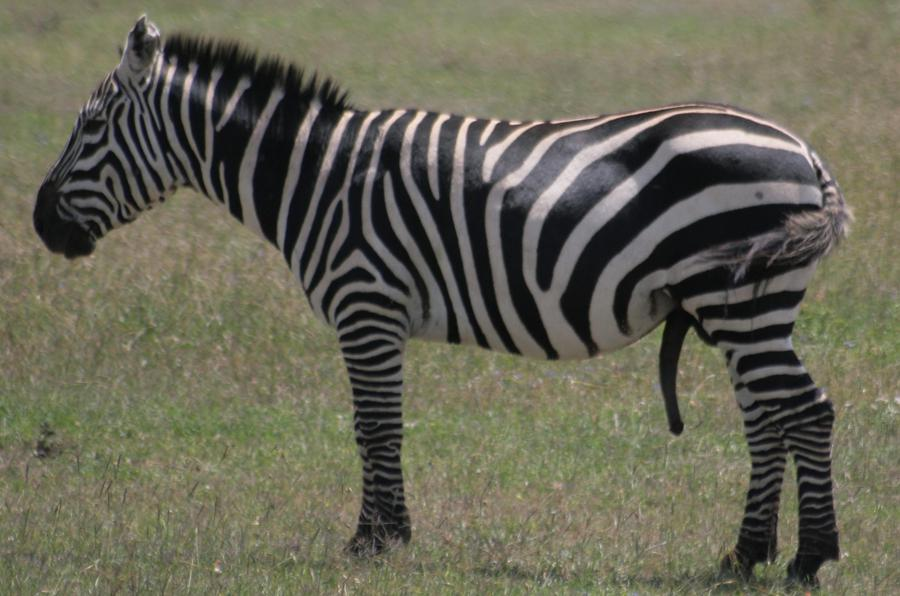zebra_plains: (275, 90, 765, 357)
